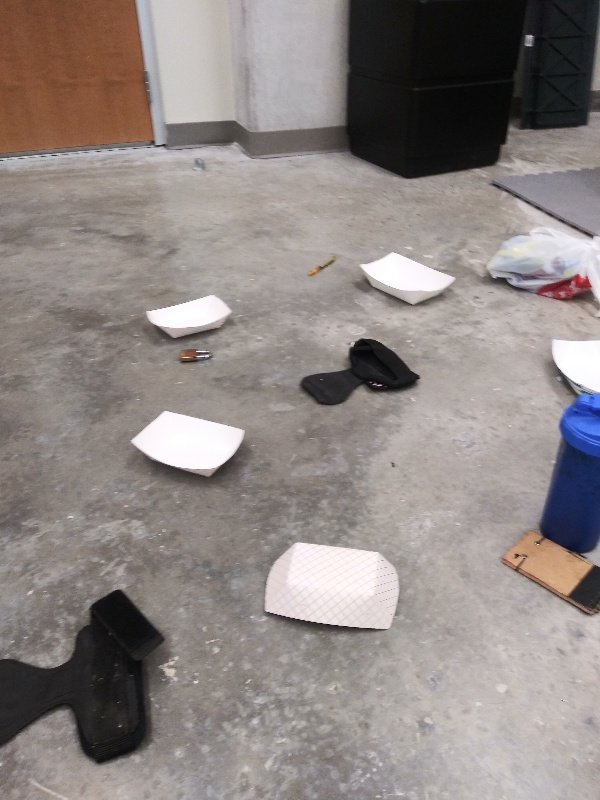plate: (258, 541, 404, 634), (129, 406, 248, 484), (352, 249, 459, 309), (143, 291, 233, 346), (543, 331, 600, 395)
